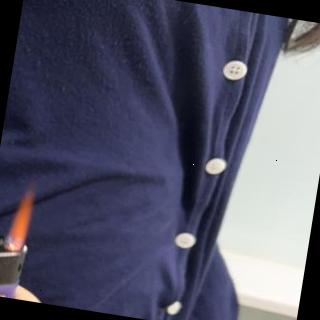fire: (7, 184, 38, 251)
